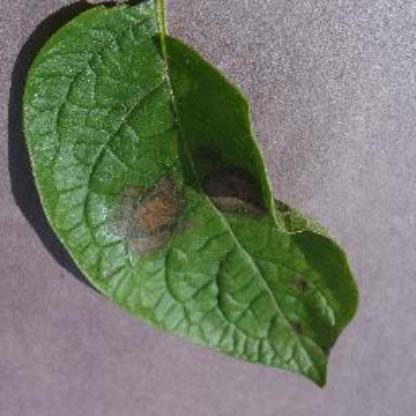Late-Blight: (14, 2, 378, 396)
